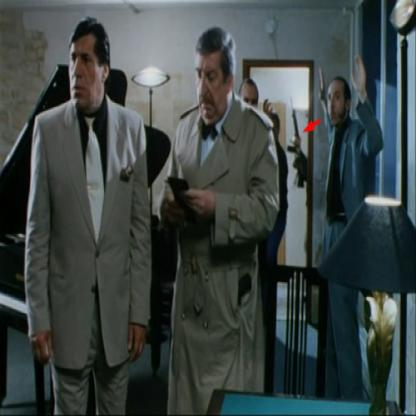Gun: (283, 95, 309, 195)
